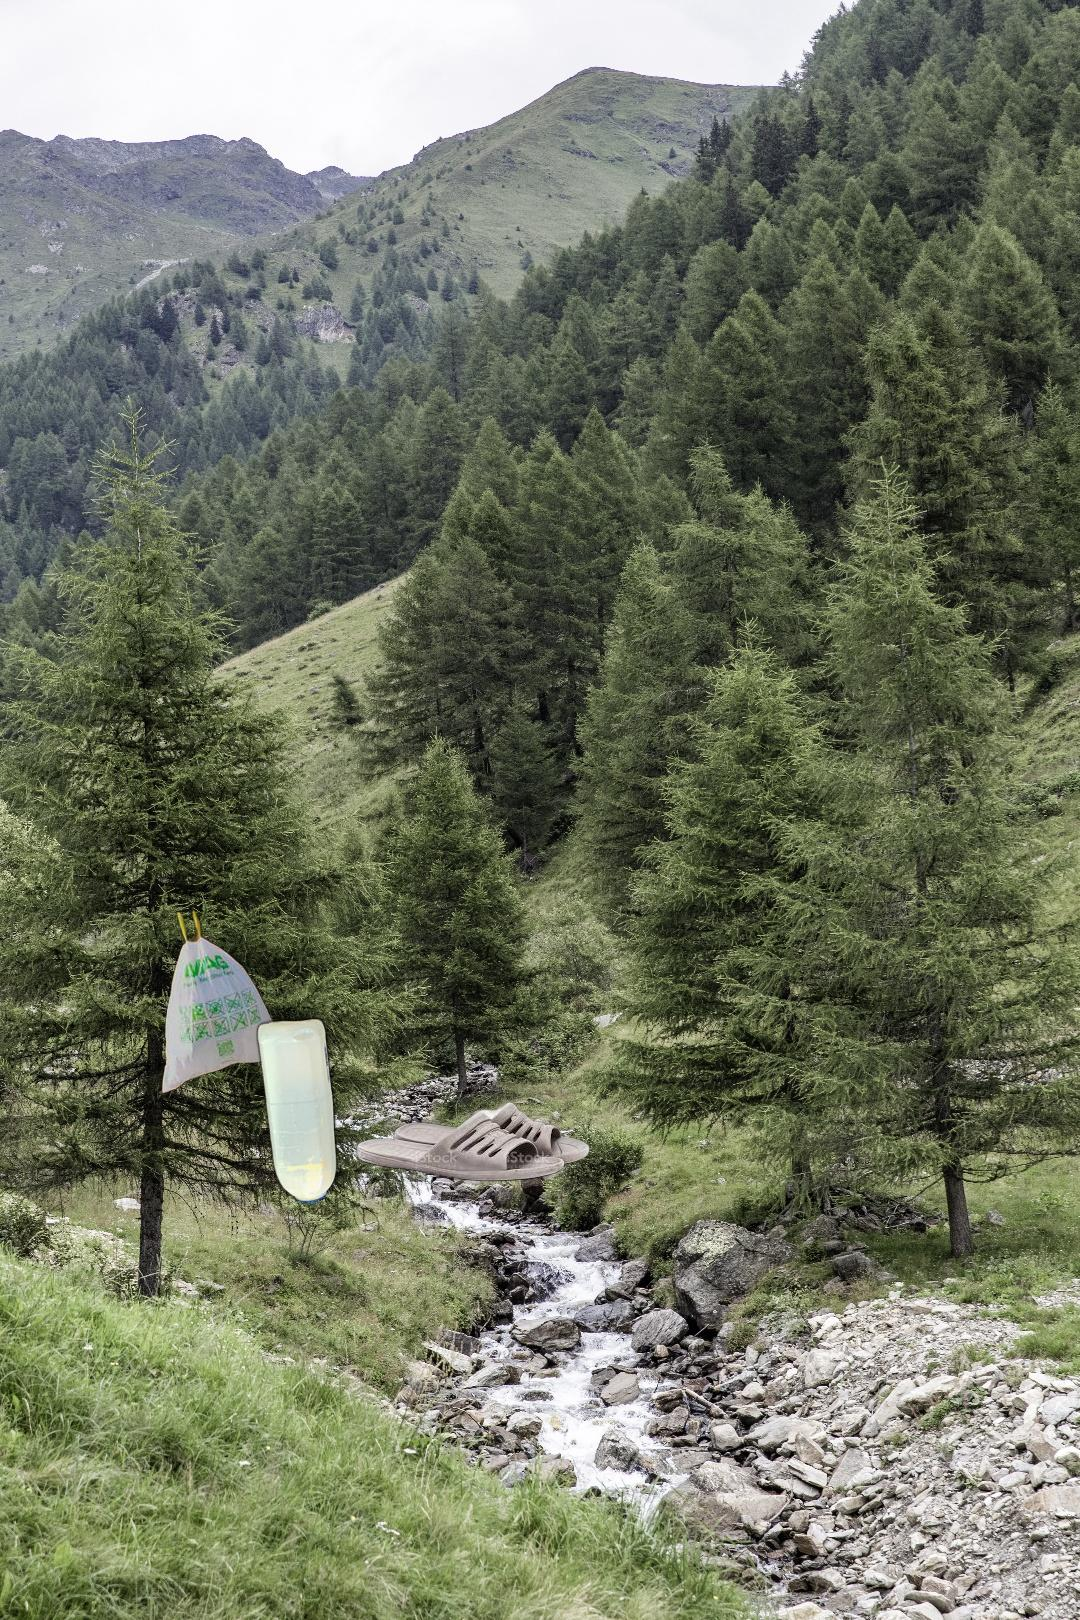penholder: (744, 1612, 1080, 1620)
plastic-bag: (162, 906, 295, 1096)
plastic-bottles: (252, 761, 603, 1211)
shoes: (353, 1099, 592, 1184)
